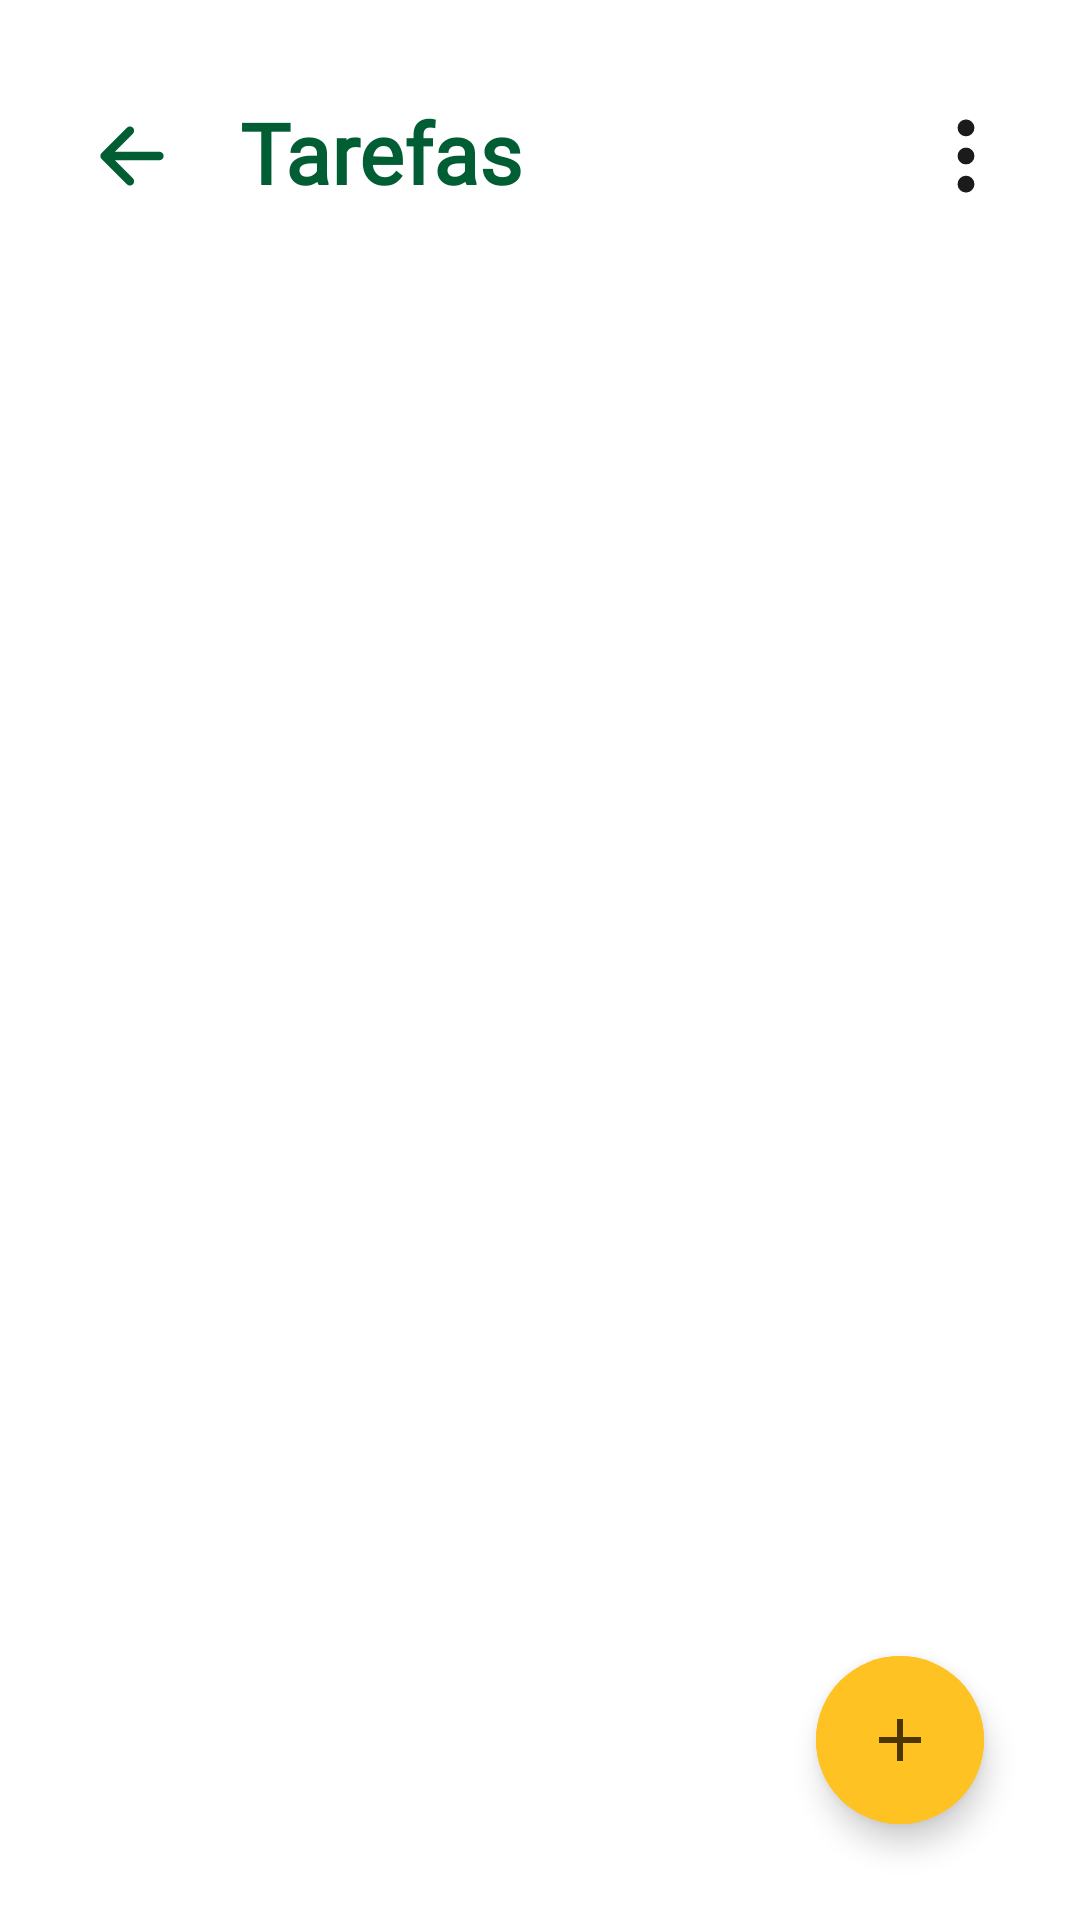

Screen size 1080 x 1920. Icon name, then its center in pixels as point (x, y):
add task: point (900, 1740)
back: point (132, 156)
ellipsis: point (966, 156)
